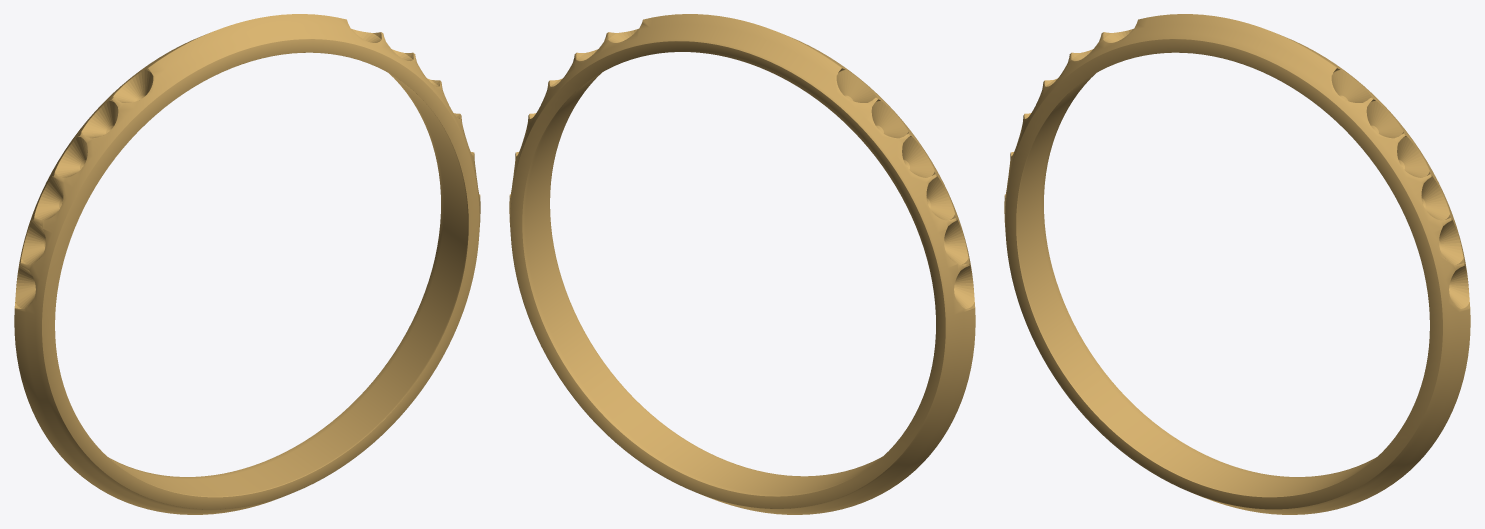
The model's file is knife-edge-flush-accents.glb.
3 views of the same model, side by side, from view 1: azimuth 30°, elevation 25°; view 2: azimuth 150°, elevation 25°; view 3: azimuth 330°, elevation 25° (orthographic).
Parts seen in each view (by area): view 1: Band; view 2: Band; view 3: Band.
Boxes of the visible parts, x1,y1,x2,y2 form: Band: [14, 14, 480, 514]; Band: [509, 14, 975, 514]; Band: [1004, 14, 1470, 514].
Size of the model in its own units: 19.6 by 19.6 by 2.1.
